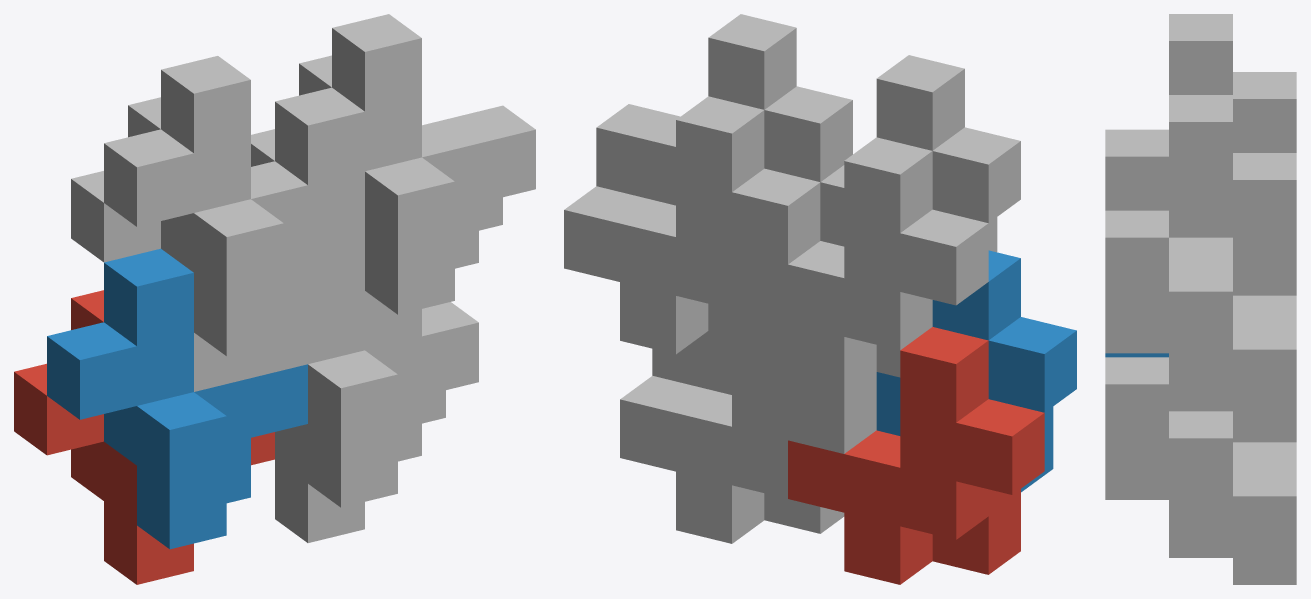
The model's file is tiling.obj.
The picture shows the model from 3 angles, left to right: view 1: azimuth 30°, elevation 25°; view 2: azimuth 150°, elevation 25°; view 3: azimuth 270°, elevation 25°; orthographic projection. The views are drawn at different scales.
Visible parts, largest first — view 1: copy_1_domain_8, copy_1_domain_4, copy_1_domain_2, copy_1_domain_6, copy_1_domain_1, copy_1_domain_3, copy_1_domain_5, copy_1_domain_7; view 2: copy_1_domain_1, copy_1_domain_7, copy_1_domain_3, copy_1_domain_5, copy_1_domain_8, copy_1_domain_4, copy_1_domain_2, copy_1_domain_6; view 3: copy_1_domain_8, copy_1_domain_7, copy_1_domain_6, copy_1_domain_5, copy_1_domain_4, copy_1_domain_3, copy_1_domain_2.
Boxes of the visible parts, x1,y1,x2,y2 form: copy_1_domain_8: (275, 14, 535, 314); copy_1_domain_4: (104, 56, 364, 356); copy_1_domain_2: (47, 248, 307, 549); copy_1_domain_6: (251, 231, 478, 507); copy_1_domain_1: (14, 290, 274, 584); copy_1_domain_3: (71, 97, 250, 391); copy_1_domain_5: (275, 390, 445, 542); copy_1_domain_7: (251, 55, 502, 350); copy_1_domain_1: (788, 327, 1044, 584); copy_1_domain_7: (564, 96, 820, 354); copy_1_domain_3: (732, 137, 988, 395); copy_1_domain_5: (620, 309, 876, 543); copy_1_domain_8: (596, 14, 852, 205); copy_1_domain_4: (820, 55, 1020, 252); copy_1_domain_2: (876, 250, 1076, 492); copy_1_domain_6: (652, 331, 731, 394); copy_1_domain_8: (1105, 95, 1232, 380); copy_1_domain_7: (1169, 153, 1296, 438); copy_1_domain_6: (1105, 357, 1232, 526); copy_1_domain_5: (1169, 438, 1296, 584); copy_1_domain_4: (1105, 14, 1232, 210); copy_1_domain_3: (1233, 72, 1296, 152); copy_1_domain_2: (1105, 353, 1168, 357).
Bounding box in the file's own units: 8 × 8 × 3.
